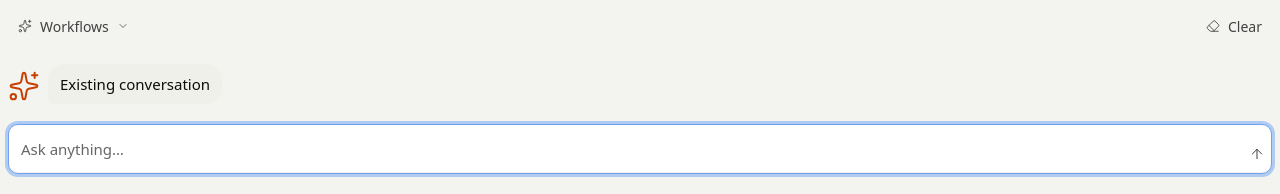
Scenario: integration draft review › keeps workflows available in an existing chat and only prefills the composer
The width and height of the screenshot is (1280, 194).
Expected: the button "Clear" is shown, [1196,8,1272,44]
Click the button "Workflows" at (73, 26), box [8,8,139,44]
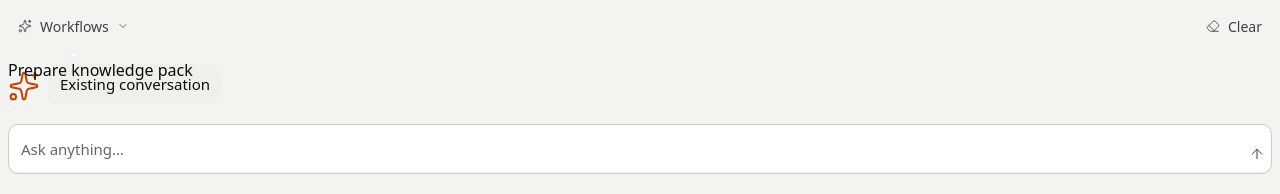
Click the menu item "Prepare knowledge pack" at (100, 70), box [8,57,193,83]
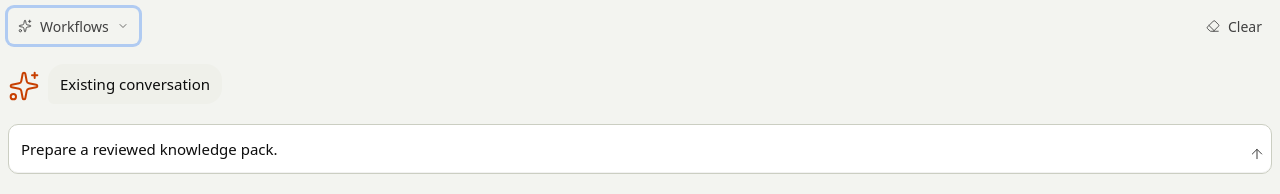
Expected: the text box showing "Prepare a reviewed knowledge pack." is shown, [15,129,1243,169]
